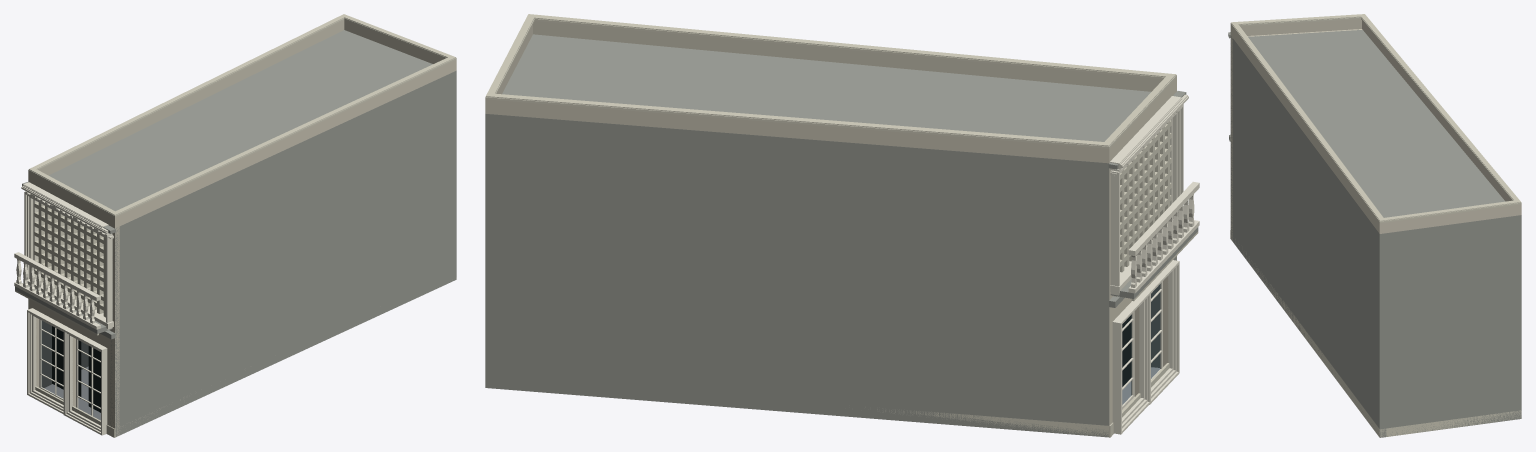
File: building.glb
The picture shows the model from 3 angles, left to right: view 1: azimuth 30°, elevation 25°; view 2: azimuth 150°, elevation 25°; view 3: azimuth 270°, elevation 25°; orthographic projection. The views are drawn at different scales.
Parts seen in each view (by area): view 1: main:0/edge1/z0/main:0/edge1/z0/wall_0_0/core0, roof/main:0/roof_slab#0001, roof/main:0/parapet#0001, main:0/edge0/z0/opening_u0.23_v3.58/perforated_screen#0001, roof/main:0/parapet_cap#0002, main:0/edge0/z0/main:0/edge0/z0/wall_0_0/core0, roof/main:0/parapet_cap#0001, main:0/edge0/z0/proj_moulded_surround_01/surround_moulding#0 (×2), main:0/edge0/z0/proj_moulded_surround_00/surround_moulding#0 (×2), main:0/edge0/z0/opening_u2.04_v0.08/glazing#0001, main:0/edge0/z0/opening_u0.35_v0.18/glazing#0001, main:0/edge0/z0/main:0/edge0/z0/wall_0_0/clip1 (+9 smaller); view 2: main:0/edge3/z0/main:0/edge3/z0/wall_0_0/core0, roof/main:0/roof_slab#0001, roof/main:0/parapet#0001, roof/main:0/parapet_cap#0002, main:0/edge0/z0/opening_u0.23_v3.58/perforated_screen#0001, roof/main:0/parapet_cap#0001, main:0/edge0/z0/proj_moulded_surround_00/surround_moulding#0 (×2), main:0/edge0/z0/proj_moulded_surround_01/surround_moulding#0 (×2), main:0/edge3/z0/plinth#0001, main:0/edge0/z0/proj_moulded_surround_02/surround_moulding#0, main:0/edge0/z0/main:0/edge0/z0/wall_0_0/core0, main:0/edge1/z0/main:0/edge1/z0/wall_0_0/core0 (+4 smaller); view 3: main:0/edge1/z0/main:0/edge1/z0/wall_0_0/core0, main:0/edge2/z0/main:0/edge2/z0/wall_0_0/core0, roof/main:0/roof_slab#0001, roof/main:0/parapet#0001, roof/main:0/parapet_cap#0002, main:0/edge1/z0/main:0/edge1/z0/wall_0_0/clip2, roof/main:0/parapet_cap#0001, main:0/edge2/z0/plinth#0001, main:0/edge3/z0/main:0/edge3/z0/wall_0_0/clip1, main:0/edge1/z0/plinth#0001, main:0/edge0/z0/main:0/edge0/z0/wall_0_0/clip1, main:0/edge3/z0/main:0/edge3/z0/wall_0_0/core0 (+1 smaller).
Boxes of the visible parts, x1,y1,x2,y2 form: main:0/edge1/z0/main:0/edge1/z0/wall_0_0/core0: [115, 70, 456, 436]; roof/main:0/roof_slab#0001: [49, 31, 431, 226]; roof/main:0/parapet#0001: [28, 20, 456, 228]; main:0/edge0/z0/opening_u0.23_v3.58/perforated_screen#0001: [34, 202, 105, 317]; roof/main:0/parapet_cap#0002: [29, 14, 455, 215]; main:0/edge0/z0/main:0/edge0/z0/wall_0_0/core0: [28, 233, 114, 427]; roof/main:0/parapet_cap#0001: [28, 18, 456, 217]; main:0/edge0/z0/proj_moulded_surround_01/surround_moulding#0 (×2): [63, 328, 107, 435]; main:0/edge0/z0/proj_moulded_surround_00/surround_moulding#0 (×2): [27, 308, 70, 414]; main:0/edge0/z0/opening_u2.04_v0.08/glazing#0001: [78, 340, 100, 420]; main:0/edge0/z0/opening_u0.35_v0.18/glazing#0001: [41, 321, 63, 398]; main:0/edge0/z0/main:0/edge0/z0/wall_0_0/clip1: [114, 226, 119, 437]; main:0/edge3/z0/main:0/edge3/z0/wall_0_0/core0: [485, 114, 1109, 437]; roof/main:0/roof_slab#0001: [503, 34, 1150, 167]; roof/main:0/parapet#0001: [485, 21, 1176, 163]; roof/main:0/parapet_cap#0002: [486, 14, 1175, 146]; main:0/edge0/z0/opening_u0.23_v3.58/perforated_screen#0001: [1120, 120, 1171, 272]; roof/main:0/parapet_cap#0001: [485, 14, 1176, 148]; main:0/edge0/z0/proj_moulded_surround_00/surround_moulding#0 (×2): [1112, 292, 1150, 434]; main:0/edge0/z0/proj_moulded_surround_01/surround_moulding#0 (×2): [1143, 260, 1179, 404]; main:0/edge3/z0/plinth#0001: [865, 407, 1108, 436]; main:0/edge0/z0/proj_moulded_surround_02/surround_moulding#0: [1110, 106, 1183, 295]; main:0/edge0/z0/main:0/edge0/z0/wall_0_0/core0: [1109, 168, 1173, 425]; main:0/edge1/z0/main:0/edge1/z0/wall_0_0/core0: [532, 34, 1159, 367]; main:0/edge1/z0/main:0/edge1/z0/wall_0_0/core0: [1231, 36, 1379, 427]; main:0/edge2/z0/main:0/edge2/z0/wall_0_0/core0: [1383, 215, 1521, 436]; roof/main:0/roof_slab#0001: [1239, 29, 1521, 237]; roof/main:0/parapet#0001: [1230, 19, 1521, 233]; roof/main:0/parapet_cap#0002: [1231, 14, 1520, 221]; main:0/edge1/z0/main:0/edge1/z0/wall_0_0/clip2: [1379, 233, 1386, 437]; roof/main:0/parapet_cap#0001: [1230, 17, 1521, 223]; main:0/edge2/z0/plinth#0001: [1380, 410, 1521, 437]; main:0/edge3/z0/main:0/edge3/z0/wall_0_0/clip1: [1515, 215, 1521, 419]; main:0/edge1/z0/plinth#0001: [1232, 239, 1380, 437]; main:0/edge0/z0/main:0/edge0/z0/wall_0_0/clip1: [1230, 36, 1232, 240]; main:0/edge3/z0/main:0/edge3/z0/wall_0_0/core0: [1361, 30, 1505, 201].
Bounding box in the file's own units: 14.96 × 7.02 × 8.61.
